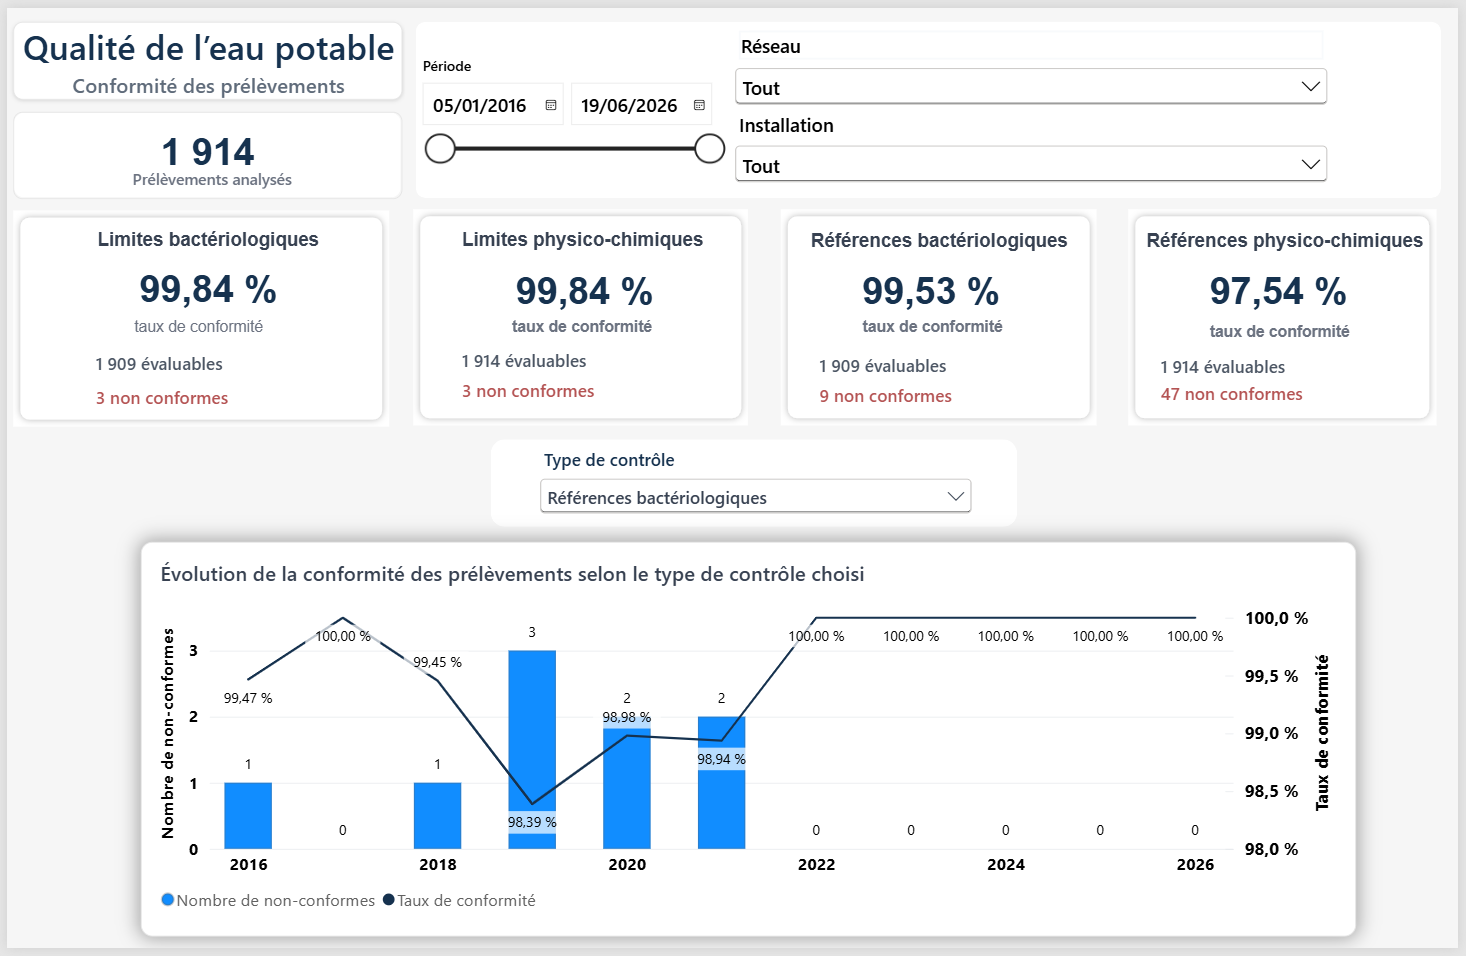

This screenshot's page, from the dashboard's own definition file:
{"tool":"powerbi","page":{"name":"Conformité des prélèvements","canvas":[1235,800],"ordinal":0},"visuals":[{"type":"shape","box":[412,366.7,448,74.7],"z":0},{"type":"shape","box":[347.6,11.9,872.6,150],"z":1000},{"type":"shape","box":[5.3,172,320,184],"z":2000},{"type":"slicer","fields":{"Values":["dim_date.date"]},"box":[345.9,40.5,268.9,121.6],"z":3000},{"type":"slicer","fields":{"Values":["dim_installation.nom_installation_amont"]},"box":[614.9,87.8,513.5,63.5],"z":4000},{"type":"slicer","fields":{"Values":["dim_reseau.code_reseau"]},"box":[614.9,18.9,513.5,68.9],"z":5000},{"type":"cardVisual","title":"Nombre total de prélèvements","fields":{"Data":["fact_prelevements.Affichage_nombre_total_prélèvements"]},"box":[5.4,87.8,331.1,74.3],"z":6000},{"type":"cardVisual","fields":{"Data":["fact_prelevements.Taux_conformité_Limites_bactériologiques"]},"box":[51.4,205.4,241.9,60.8],"z":7000},{"type":"cardVisual","fields":{"Data":["fact_prelevements.Affichage_évaluables_Limites_bactériologiques"]},"box":[59.5,281.1,208.1,43.2],"z":8000},{"type":"cardVisual","fields":{"Data":["fact_prelevements.Affichage_non_conformes_Limites_bactériologiques"]},"box":[59.5,314.9,208.1,33.8],"z":9000},{"type":"textbox","title":"Limites bactériologiques","box":[66.2,187.8,210.8,25.7],"z":10000},{"type":"textbox","title":"taux de conformité","box":[77,263.5,173,27],"z":11000},{"type":"shape","box":[345.9,171.6,285.1,183.8],"z":12000},{"type":"cardVisual","fields":{"Data":["fact_prelevements.Taux_conformité_Limites_physico_chimiques"]},"box":[374.3,206.8,235.1,56.8],"z":13000},{"type":"cardVisual","fields":{"Data":["fact_prelevements.Affichage_évaluables_Limites_physico_chimiques"]},"box":[371.6,281.1,235.1,37.8],"z":14000},{"type":"textbox","title":"Limites physico-chimiques","box":[359.5,187.8,260.8,28.4],"z":15000},{"type":"textbox","title":"taux de conformité","box":[404.1,263.5,170.3,18.9],"z":16000},{"type":"shape","box":[658.1,171.6,268.9,183.8],"z":17000},{"type":"cardVisual","fields":{"Data":["fact_prelevements.Taux_conformité_Références_bactériologiques"]},"box":[681.1,206.8,212.2,60.8],"z":18000},{"type":"cardVisual","fields":{"Data":["fact_prelevements.Affichage_évaluables_Références_bactériologiques"]},"box":[675.7,289.2,223,29.7],"z":19000},{"type":"cardVisual","fields":{"Data":["fact_prelevements.Affichage_non_conformes_Références_bactériologiques"]},"box":[675.7,314.9,193.2,29.7],"z":20000},{"type":"textbox","title":"Références bactériologiques","box":[668.9,189.2,248.6,24.3],"z":21000},{"type":"textbox","title":"taux de conformité","box":[690.5,263.5,194.6,18.9],"z":22000},{"type":"shape","box":[954.1,171.6,262.2,183.8],"z":23000},{"type":"cardVisual","fields":{"Data":["fact_prelevements.Taux_conformité_Références_physico_chimiques"]},"box":[966.2,206.8,233.8,66.2],"z":24000},{"type":"cardVisual","fields":{"Data":["fact_prelevements.Affichage_évaluables_Références_physico_chimiques"]},"box":[966.2,291.9,200,27],"z":25000},{"type":"cardVisual","fields":{"Data":["fact_prelevements.Affichage_non_conformes_Références_physico_chimiques"]},"box":[966.2,313.5,189.2,28.4],"z":26000},{"type":"textbox","title":"Références physico-chimiques","box":[954.1,189.2,266.7,28.4],"z":27000},{"type":"textbox","title":"taux de conformité","box":[994.6,267.6,177,18.9],"z":28000},{"type":"slicer","fields":{"Values":["Sélecteur_Type_Contrôle.Type_Contrôle"]},"box":[448.6,373.6,377,67.6],"z":29000},{"type":"lineClusteredColumnComboChart","title":"Évolution de la conformité des prélèvements  selon le type de contrôle choisi","fields":{"Category":["dim_date.annee","dim_date.nom_mois"],"Y":["Sélecteur_Type_Contrôle.Nb_non_conformes_Type_Contrôle_sélectionné"],"Y2":["Sélecteur_Type_Contrôle.Taux_conformité_Type_Contrôle_sélectionné"]},"box":[114.3,454.8,1034.7,336.1],"z":30000},{"type":"textbox","title":"Qualité de l’eau potable","box":[5.4,12.2,331.1,66.2],"z":31000},{"type":"textbox","title":"Prélèvements analysés","box":[77,136.5,195.9,28.4],"z":32000},{"type":"cardVisual","fields":{"Data":["fact_prelevements.Affichage_non_conformes_Limites_physico_chimiques"]},"box":[371.8,310.3,193.2,29.7],"z":33000}]}

Visuals, with their boxes in screenshot pixels (x1, y1, x2, y2), scaled from the page's 1235x800 canvas onto the 1466x956 screenshot:
shape: [489, 438, 1021, 527]
shape: [413, 14, 1448, 193]
shape: [6, 206, 386, 425]
slicer - dim_date.date: [411, 48, 730, 194]
slicer - dim_installation.nom_installation_amont: [730, 105, 1339, 181]
slicer - dim_reseau.code_reseau: [730, 23, 1339, 105]
"Nombre total de prélèvements" cardVisual: [6, 105, 399, 194]
cardVisual - fact_prelevements.Taux_conformité_Limites_bactériologiques: [61, 245, 348, 318]
cardVisual - fact_prelevements.Affichage_évaluables_Limites_bactériologiques: [71, 336, 318, 388]
cardVisual - fact_prelevements.Affichage_non_conformes_Limites_bactériologiques: [71, 376, 318, 417]
"Limites bactériologiques" textbox: [79, 224, 329, 255]
"taux de conformité" textbox: [91, 315, 297, 347]
shape: [411, 205, 749, 425]
cardVisual - fact_prelevements.Taux_conformité_Limites_physico_chimiques: [444, 247, 723, 315]
cardVisual - fact_prelevements.Affichage_évaluables_Limites_physico_chimiques: [441, 336, 720, 381]
"Limites physico-chimiques" textbox: [427, 224, 736, 258]
"taux de conformité" textbox: [480, 315, 682, 337]
shape: [781, 205, 1100, 425]
cardVisual - fact_prelevements.Taux_conformité_Références_bactériologiques: [808, 247, 1060, 320]
cardVisual - fact_prelevements.Affichage_évaluables_Références_bactériologiques: [802, 346, 1067, 381]
cardVisual - fact_prelevements.Affichage_non_conformes_Références_bactériologiques: [802, 376, 1031, 412]
"Références bactériologiques" textbox: [794, 226, 1089, 255]
"taux de conformité" textbox: [820, 315, 1051, 337]
shape: [1133, 205, 1444, 425]
cardVisual - fact_prelevements.Taux_conformité_Références_physico_chimiques: [1147, 247, 1424, 326]
cardVisual - fact_prelevements.Affichage_évaluables_Références_physico_chimiques: [1147, 349, 1384, 381]
cardVisual - fact_prelevements.Affichage_non_conformes_Références_physico_chimiques: [1147, 375, 1372, 409]
"Références physico-chimiques" textbox: [1133, 226, 1449, 260]
"taux de conformité" textbox: [1181, 320, 1391, 342]
slicer - Sélecteur_Type_Contrôle.Type_Contrôle: [533, 446, 980, 527]
"Évolution de la conformité des prélèvements  selon le type de contrôle choisi" lineClusteredColumnComboChart: [136, 543, 1364, 945]
"Qualité de l’eau potable" textbox: [6, 15, 399, 94]
"Prélèvements analysés" textbox: [91, 163, 324, 197]
cardVisual - fact_prelevements.Affichage_non_conformes_Limites_physico_chimiques: [441, 371, 671, 406]
